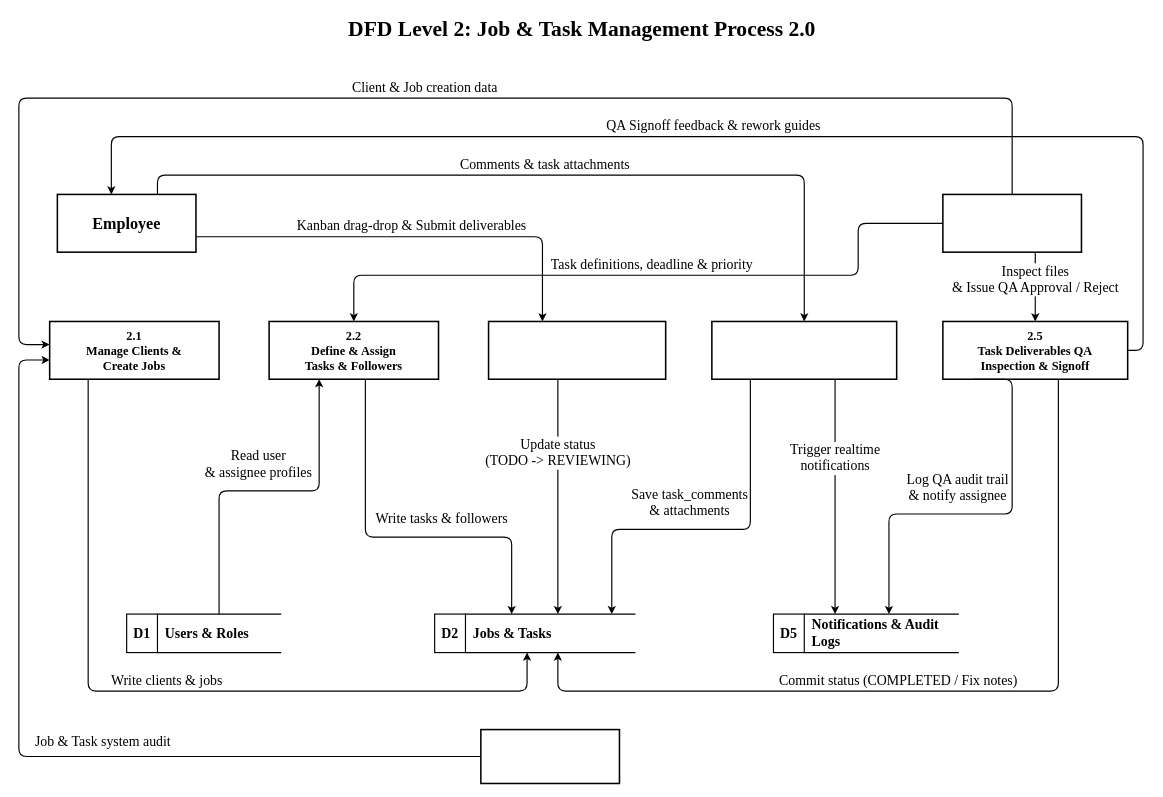
Some shapes in this 1163 by 797 pixel diagram are drawn without their labels. The shapes that lost their labels are listed below. From the top down, each one's centre as x and y in pixels, then its label:
At (1012,223): "Manager".
At (576,350): "2.3 Kanban Workflow & Deliverables Submission".
At (804,350): "2.4 Task Discussions & Attachments".
At (550,756): "Administrator".
